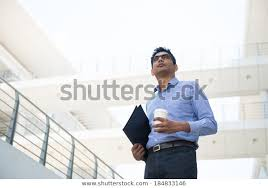Indian_Male: (147, 41, 182, 82)
